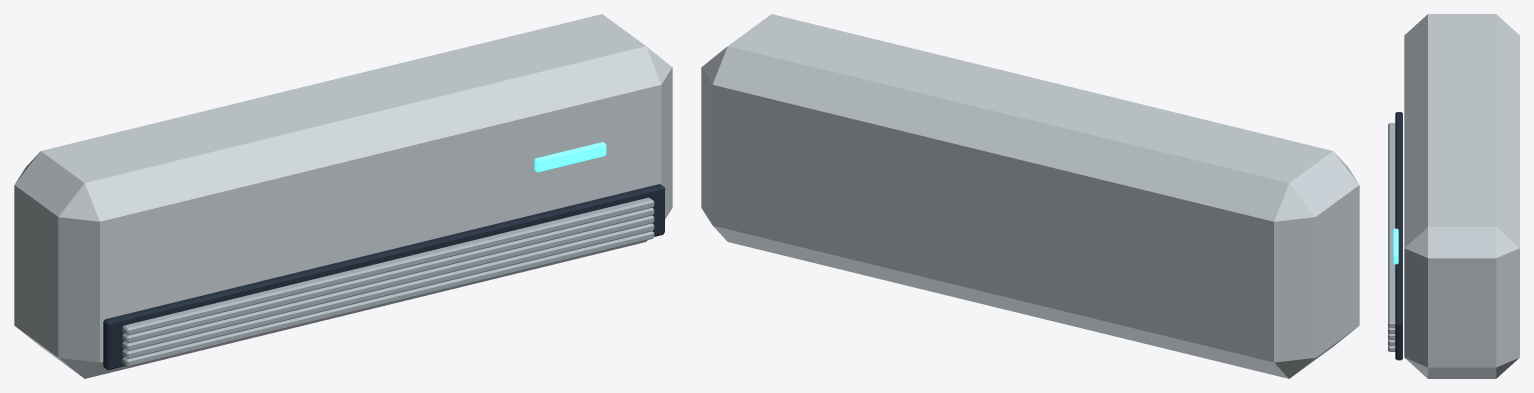
Rendered from utility_08.glb.
3 views of the same model, side by side, from view 1: azimuth 30°, elevation 25°; view 2: azimuth 150°, elevation 25°; view 3: azimuth 270°, elevation 25° (orthographic). The views are drawn at different scales.
Parts seen in each view (by area): view 1: WallAC, Louvre (×5), VentPanel, ACGlow; view 2: WallAC; view 3: WallAC, VentPanel, Louvre, ACGlow.
Part boxes in pixels (x1,y1,x2,y2): WallAC: [14, 14, 672, 378]; Louvre (×5): [122, 197, 654, 366]; VentPanel: [103, 184, 664, 369]; ACGlow: [534, 142, 606, 172]; WallAC: [701, 14, 1359, 378]; WallAC: [1404, 14, 1519, 378]; VentPanel: [1395, 112, 1402, 360]; Louvre: [1388, 123, 1395, 327]; ACGlow: [1393, 228, 1398, 264].
Bounding box in the file's own units: 1.05 × 0.32 × 0.251.
